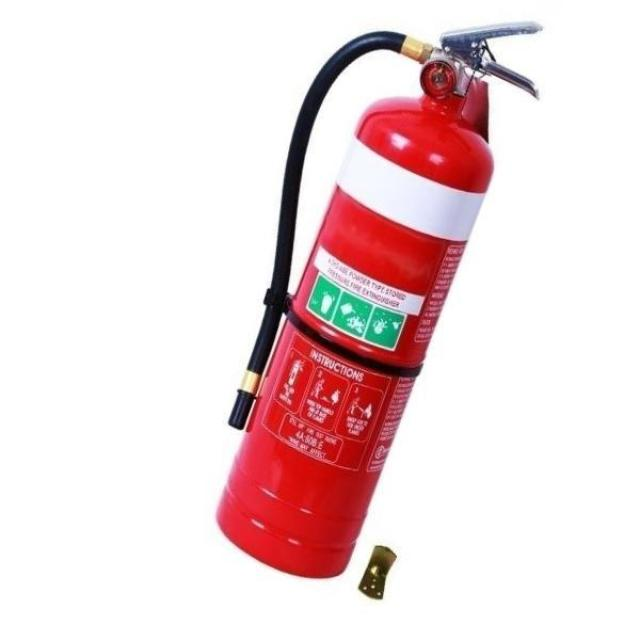fire_extinguisher: (209, 15, 549, 583)
